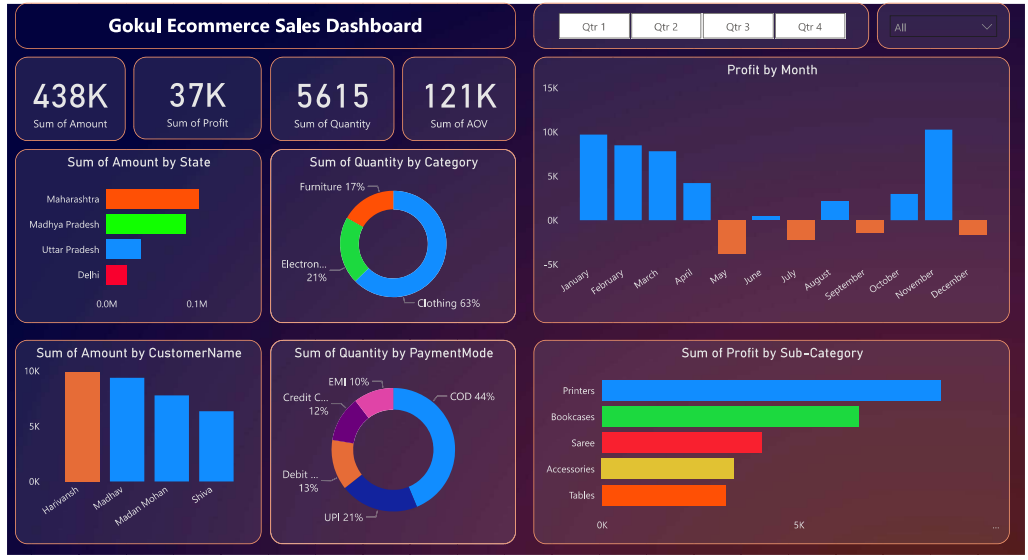

What the dashboard file says about the page in this screenshot:
{"tool":"powerbi","page":{"name":"Page 1","canvas":[1280,720],"ordinal":0},"visuals":[{"type":"textbox","box":[10.1,10.1,630.4,57.8],"z":0},{"type":"columnChart","title":"Profit by Month","fields":{"Y":["Details.Profit"],"Category":["Orders.Order Date.Variation.Date Hierarchy.Month"]},"box":[662.2,78.1,598.6,335.4],"z":1000},{"type":"barChart","fields":{"Category":["Details.Sub-Category"],"Y":["Details.Profit"]},"box":[662.2,433.7,598.6,257.3],"z":2000},{"type":"donutChart","fields":{"Category":["Details.Category"],"Y":["Details.Quantity"]},"box":[331.1,193.7,309.4,219.8],"z":3000},{"type":"donutChart","fields":{"Category":["Details.PaymentMode","Details.Category"],"Y":["Details.Quantity"]},"box":[331.1,433.7,309.4,257.3],"z":4000},{"type":"card","fields":{"Values":["Details.Amount"]},"box":[10.1,78.1,138.8,105.5],"z":5000},{"type":"card","fields":{"Values":["Details.Quantity"]},"box":[331.1,78.1,156.1,105.5],"z":6000},{"type":"card","fields":{"Values":["Details.Profit"]},"box":[159,78.1,160.5,104.1],"z":7000},{"type":"card","fields":{"Values":["Details.AOV"]},"box":[497.3,78.1,143.1,105.5],"z":8000},{"type":"barChart","fields":{"Category":["Orders.State","Details.Sub-Category"],"Y":["Details.Amount"]},"box":[10.1,193.7,309.4,219.8],"z":9000},{"type":"columnChart","fields":{"Category":["Orders.CustomerName"],"Y":["Details.Amount"]},"box":[10.1,433.7,309.4,257.3],"z":10000},{"type":"slicer","fields":{"Values":["Orders.Order Date.Variation.Date Hierarchy.Quarter"]},"box":[662.2,10.1,422.2,57.8],"z":11000},{"type":"slicer","fields":{"Values":["Orders.State"]},"box":[1094.5,10.1,166.3,57.8],"z":12000}]}

Visuals, with their boxes in screenshot pixels (x1, y1, x2, y2):
textbox: 11:0:512:46
"Profit by Month" columnChart: 529:54:1004:321
barChart - Details.Sub-Category x Details.Profit: 529:337:1004:541
donutChart - Details.Category x Details.Quantity: 266:146:512:321
donutChart - Details.PaymentMode x Details.Category: 266:337:512:541
card - Details.Amount: 11:54:121:138
card - Details.Quantity: 266:54:390:138
card - Details.Profit: 129:54:257:137
card - Details.AOV: 398:54:511:138
barChart - Orders.State x Details.Sub-Category: 11:146:257:321
columnChart - Orders.CustomerName x Details.Amount: 11:337:257:541
slicer - Orders.Order Date.Variation.Date Hierarchy.Quarter: 529:0:864:46
slicer - Orders.State: 872:0:1004:46
